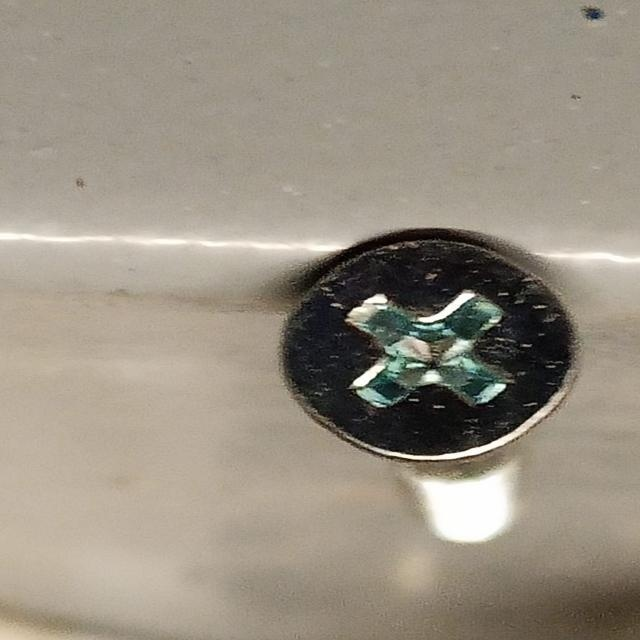phillips: (282, 236, 579, 461)
